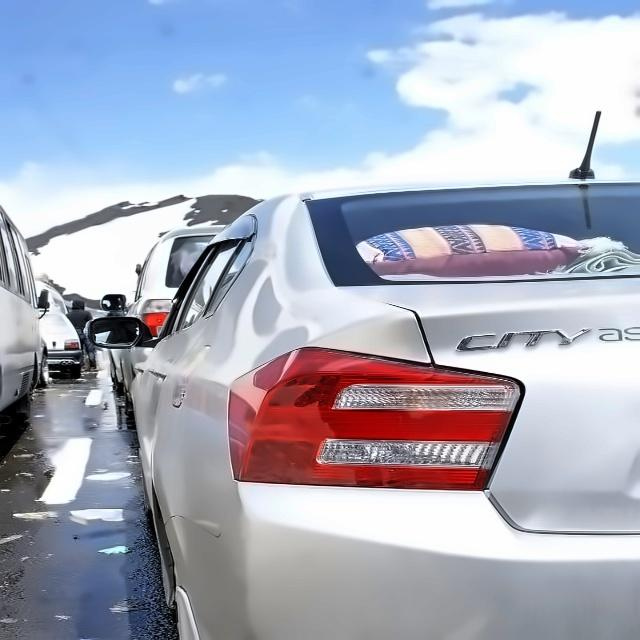Car boot: (337, 274, 640, 541)
Rear bumper: (167, 482, 640, 640), (76, 304, 166, 362)
Rear light - -L-: (217, 339, 532, 503)
